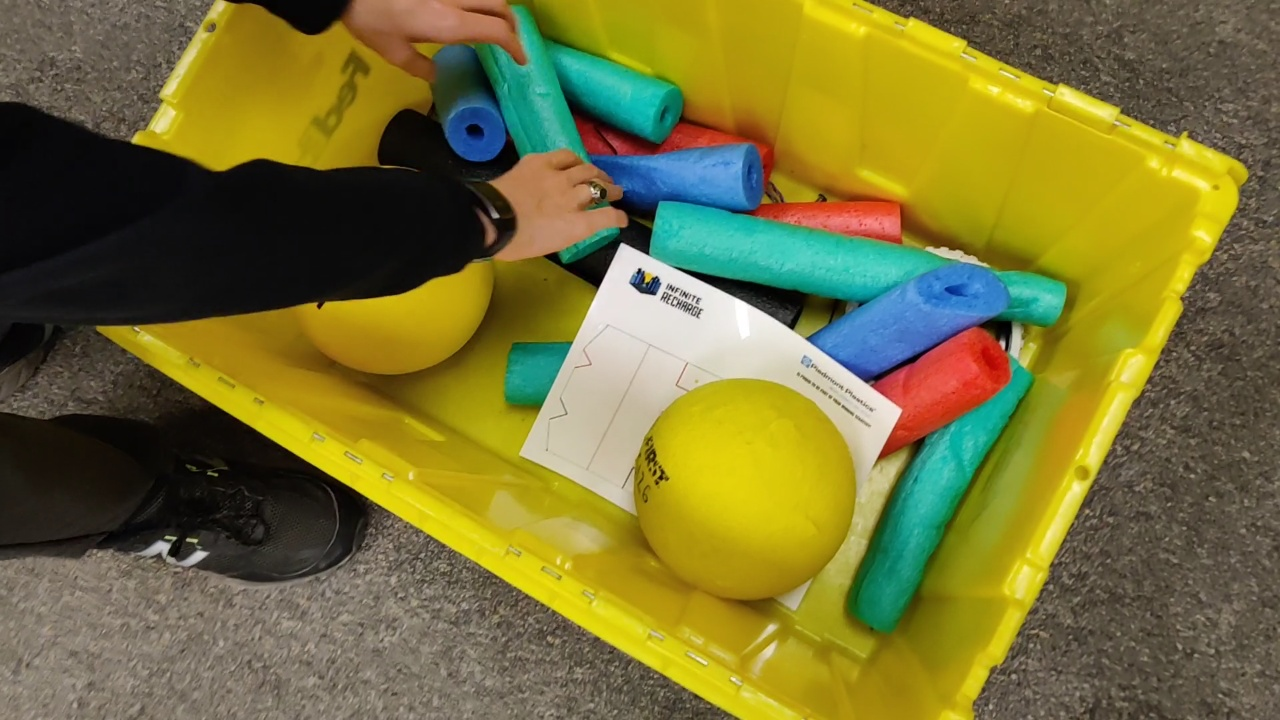Ball: (638, 378, 854, 599), (301, 262, 497, 373)
